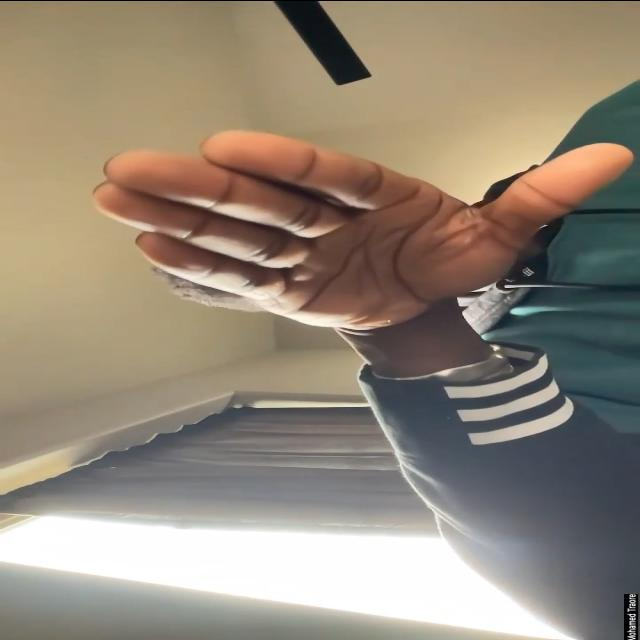Paper: (87, 130, 637, 331)
